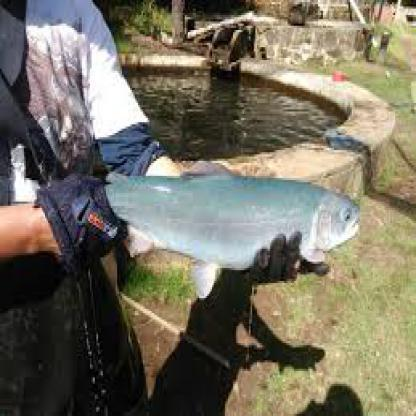fish: (6, 155, 362, 294)
